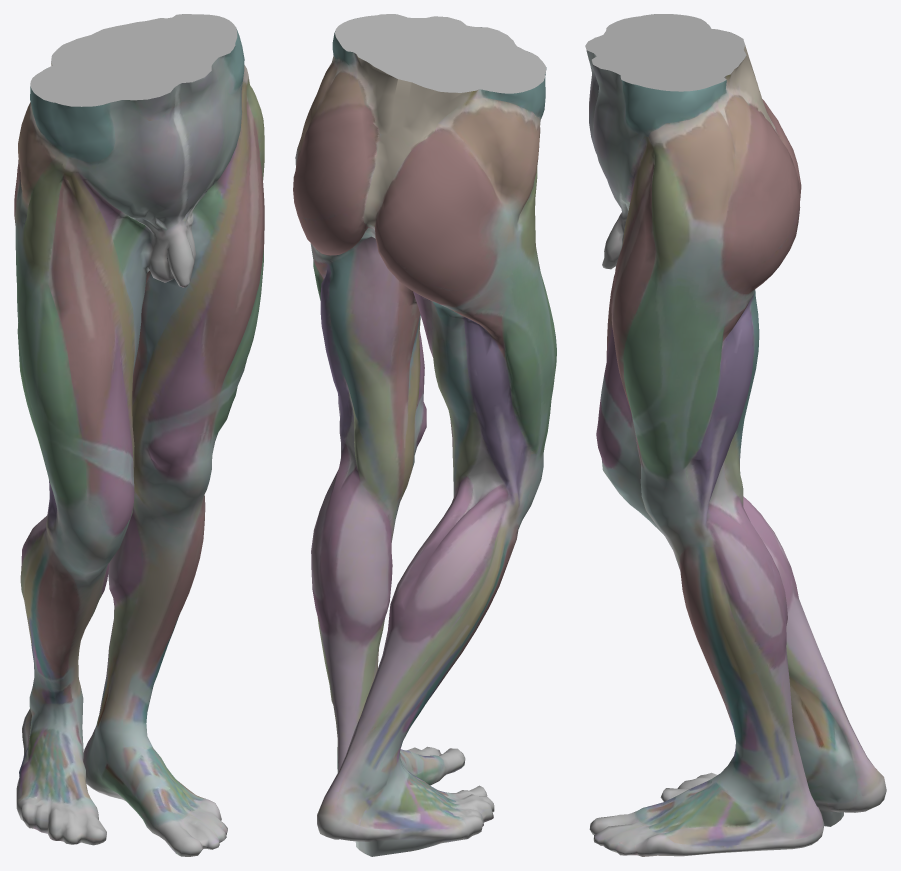
File: 人物其它_20260324201152_opt.glb
The picture shows the model from 3 angles, left to right: view 1: azimuth 30°, elevation 25°; view 2: azimuth 150°, elevation 25°; view 3: azimuth 270°, elevation 25°; orthographic projection. The views are drawn at different scales.
Parts seen in each view (by area): view 1: Retopo_FirstUv, Retopo_FirstUv001; view 2: Retopo_FirstUv, Retopo_FirstUv001; view 3: Retopo_FirstUv, Retopo_FirstUv001.
Boxes of the visible parts, <box> form: Retopo_FirstUv: <box>14,29,264,856</box>; Retopo_FirstUv001: <box>30,14,237,106</box>; Retopo_FirstUv: <box>293,16,556,856</box>; Retopo_FirstUv001: <box>335,14,546,93</box>; Retopo_FirstUv: <box>586,45,886,856</box>; Retopo_FirstUv001: <box>585,14,746,91</box>.
Bounding box in the file's own units: 0.1279 × 0.4 × 0.1401.
2 materials, 1 textured.
